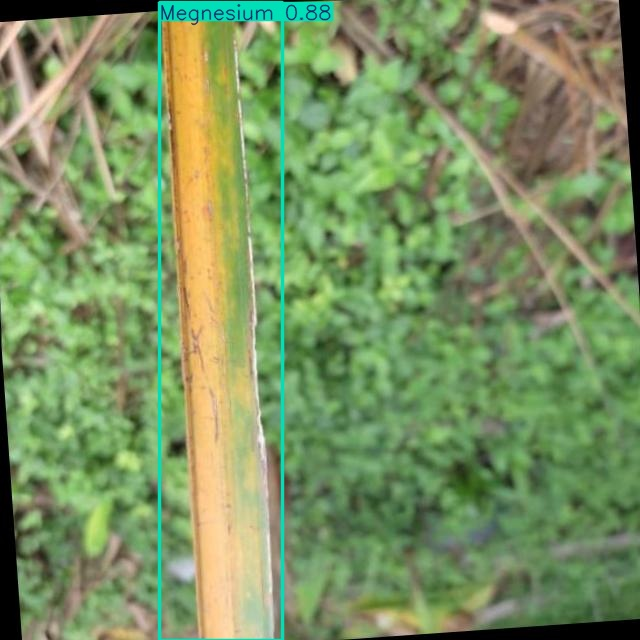Megnesium: (160, 2, 282, 640)
